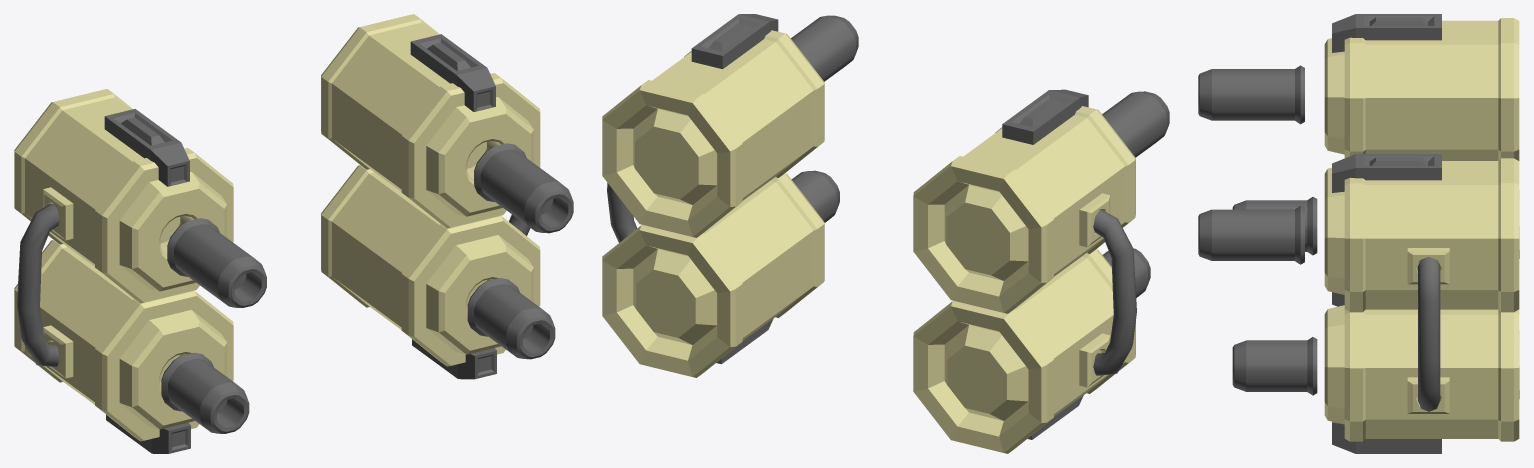
File: Rychlopalnica_Cannon.fbx
The picture shows the model from 3 angles, left to right: view 1: azimuth 30°, elevation 25°; view 2: azimuth 150°, elevation 25°; view 3: azimuth 270°, elevation 25°; orthographic projection. The views are drawn at different scales.
Visible parts, largest first — view 1: pCylinder367, pCylinder371, pCylinder406, pCylinder404, pCylinder369, pCylinder365, pCylinder408, pCylinder376, pCylinder403, pCube54, pCube73, pCube75 (+1 smaller); view 2: pCylinder367, pCylinder371, pCylinder406, pCylinder404, pCylinder403, pCylinder365, pCylinder369, pCube54, pCube73, pCylinder376, pCylinder401, pCylinder408; view 3: pCylinder367, pCylinder371, pCylinder406, pCylinder365, pCylinder369, pCylinder376, pCylinder401, pCube54, pCube73, pCube75, pCylinder408.
Boxes of the visible parts, bbox=[...] form: pCylinder367: bbox=[321, 14, 540, 228]; pCylinder371: bbox=[14, 89, 233, 303]; pCylinder406: bbox=[321, 165, 540, 366]; pCylinder404: bbox=[14, 240, 233, 441]; pCylinder369: bbox=[167, 218, 266, 307]; pCylinder365: bbox=[474, 143, 573, 233]; pCylinder408: bbox=[161, 352, 249, 433]; pCylinder376: bbox=[467, 278, 555, 359]; pCylinder403: bbox=[17, 203, 59, 366]; pCube54: bbox=[410, 34, 495, 111]; pCube73: bbox=[104, 109, 189, 186]; pCube75: bbox=[412, 339, 496, 379]; pCylinder367: bbox=[602, 21, 824, 237]; pCylinder371: bbox=[913, 106, 1135, 313]; pCylinder406: bbox=[602, 173, 824, 377]; pCylinder404: bbox=[913, 249, 1135, 453]; pCylinder403: bbox=[1093, 210, 1136, 375]; pCylinder365: bbox=[791, 15, 858, 81]; pCylinder369: bbox=[1102, 91, 1169, 157]; pCube54: bbox=[691, 14, 778, 69]; pCube73: bbox=[1002, 89, 1088, 144]; pCylinder376: bbox=[791, 170, 839, 222]; pCylinder401: bbox=[607, 183, 637, 242]; pCylinder408: bbox=[1102, 248, 1150, 297]; pCylinder367: bbox=[1324, 158, 1519, 312]; pCylinder371: bbox=[1324, 18, 1519, 160]; pCylinder406: bbox=[1324, 305, 1519, 441]; pCylinder365: bbox=[1198, 206, 1304, 264]; pCylinder369: bbox=[1198, 65, 1304, 124]; pCylinder376: bbox=[1232, 337, 1317, 395]; pCylinder401: bbox=[1417, 257, 1440, 411]; pCube54: bbox=[1332, 154, 1441, 192]; pCube73: bbox=[1332, 14, 1441, 52]; pCube75: bbox=[1332, 421, 1441, 453]; pCylinder408: bbox=[1232, 197, 1317, 255].
Size of the model in its own units: 61.93 by 35.11 by 35.38.
